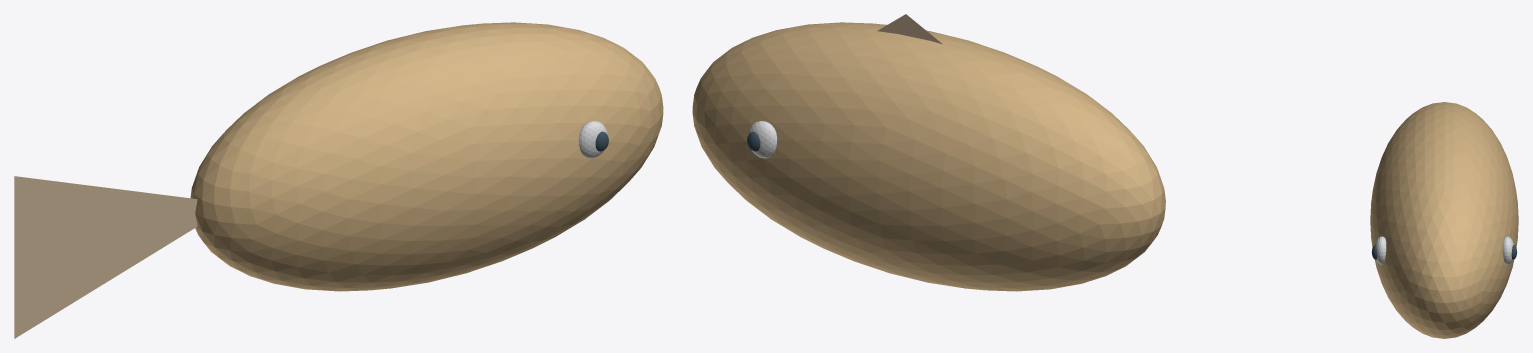
3 renders of one model, left to right at view 1: azimuth 30°, elevation 25°; view 2: azimuth 150°, elevation 25°; view 3: azimuth 270°, elevation 25°, orthographic. The views are drawn at different scales.
Visible parts, largest first — view 1: fish_00, fish_01, fish_05; view 2: fish_00, fish_02, fish_03; view 3: fish_00, fish_03, fish_05.
Boxes of the visible parts, left/top/right/bottom form: fish_00: left=190, top=22, right=663, bottom=291; fish_01: left=14, top=176, right=197, bottom=338; fish_05: left=578, top=121, right=607, bottom=158; fish_00: left=692, top=22, right=1165, bottom=291; fish_02: left=877, top=14, right=942, bottom=44; fish_03: left=748, top=121, right=777, bottom=158; fish_00: left=1370, top=102, right=1518, bottom=338; fish_03: left=1502, top=236, right=1513, bottom=264; fish_05: left=1375, top=236, right=1386, bottom=264.
Bounding box in the file's own units: 2.78 × 1.05 × 0.76.
